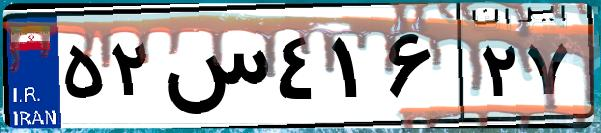1: (330, 28, 385, 110)
2: (475, 38, 525, 113), (110, 28, 158, 98)
4: (270, 28, 330, 110)
5: (57, 26, 110, 100)
6: (385, 28, 445, 110)
7: (525, 38, 570, 115)
س: (158, 20, 270, 120)
